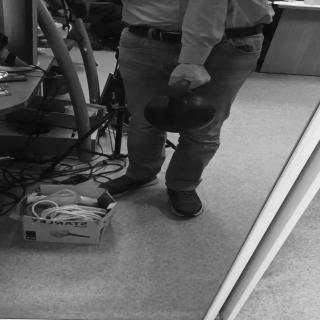kettlebell: (143, 80, 223, 134)
